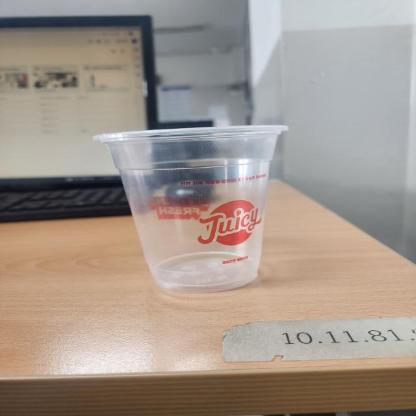Plastic Cup: (91, 123, 290, 291)
